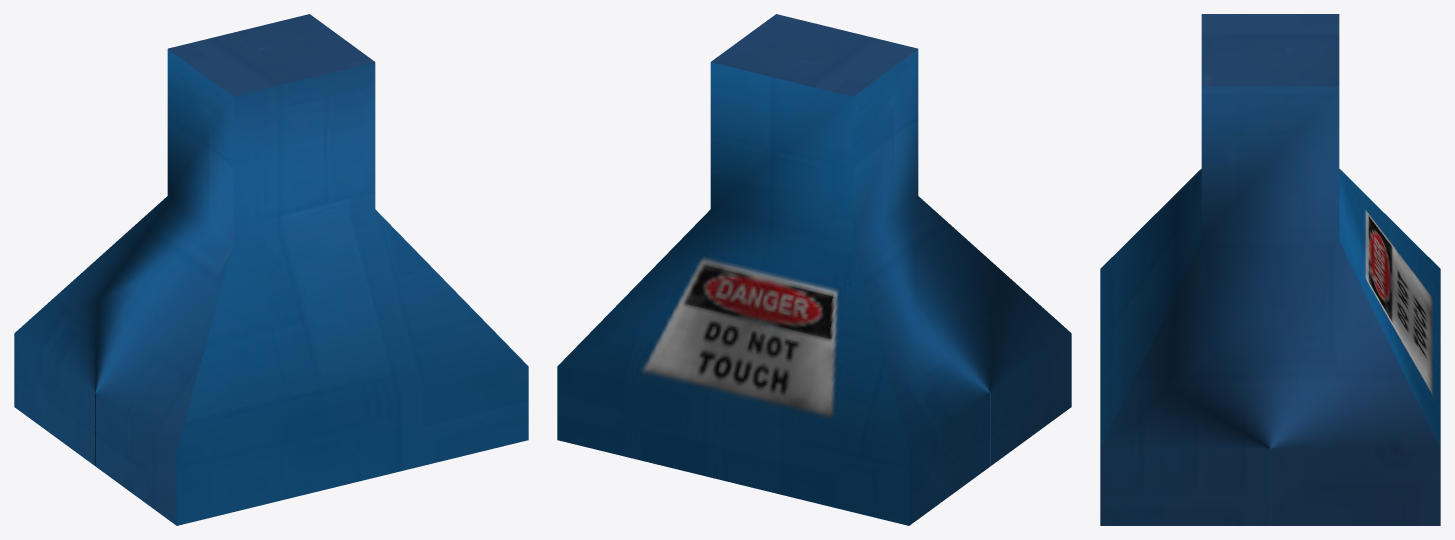
File: engraver2.obj
3 renders of one model, left to right at view 1: azimuth 30°, elevation 25°; view 2: azimuth 150°, elevation 25°; view 3: azimuth 270°, elevation 25°, orthographic. The views are drawn at different scales.
Parts seen in each view (by area): view 1: objpCube2; view 2: objpCube2; view 3: objpCube2.
Part boxes in pixels (x1,y1,x2,y2): objpCube2: (14,14,528,525); objpCube2: (557,14,1071,525); objpCube2: (1100,14,1440,525).
Size of the model in its own units: 4.04 by 4.04 by 3.23.
